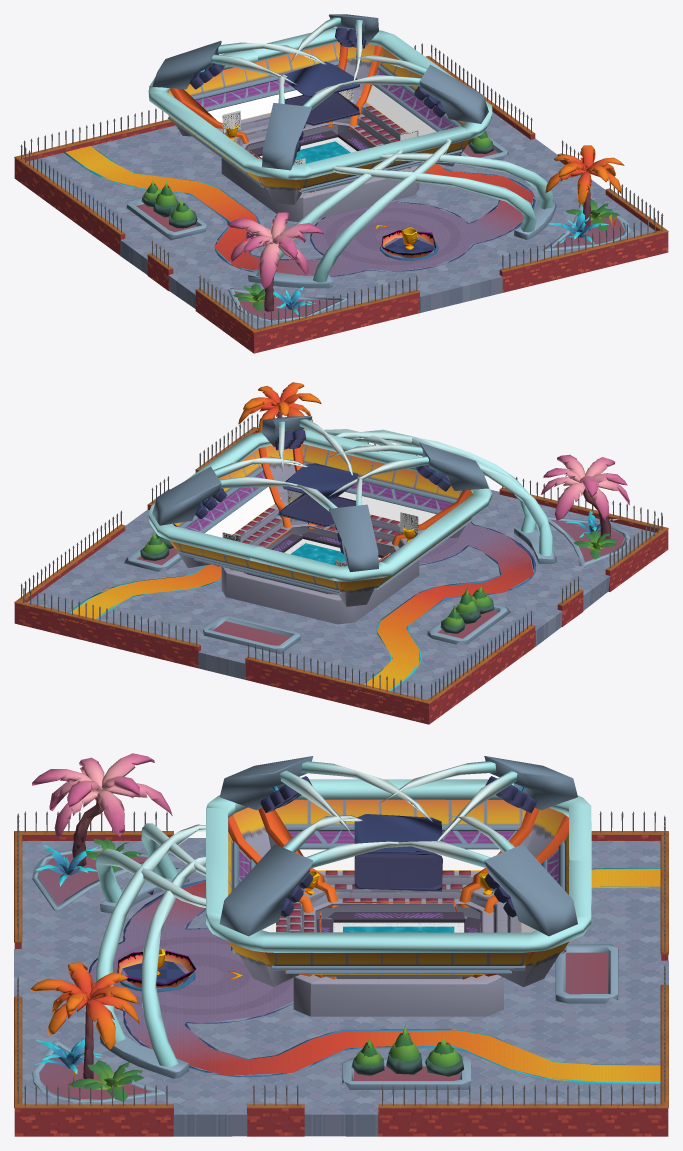
The model's file is bafkreighl6hd5rubetryckqi4rmk7jp46qoy3i2zc6w6t4wimcsbnd3b4i_1.fbx.
3 views of the same model, one above another, from view 1: azimuth 30°, elevation 25°; view 2: azimuth 150°, elevation 25°; view 3: azimuth 270°, elevation 25° (orthographic). The views are drawn at different scales.
Visible parts, largest first — view 1: DCL_SCENE; view 2: DCL_SCENE; view 3: DCL_SCENE.
Part boxes in pixels (x1,y1,x2,y2): DCL_SCENE: (14, 14, 668, 353); DCL_SCENE: (14, 382, 668, 724); DCL_SCENE: (14, 753, 668, 1136).
Bounding box in the file's own units: 80000 × 26936 × 80000.
2 materials, 2 textured.
